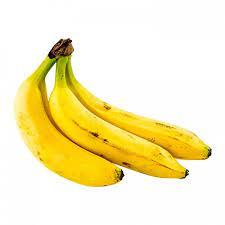Banana Ripe: (49, 48, 220, 179), (67, 67, 216, 177), (10, 62, 123, 192)
